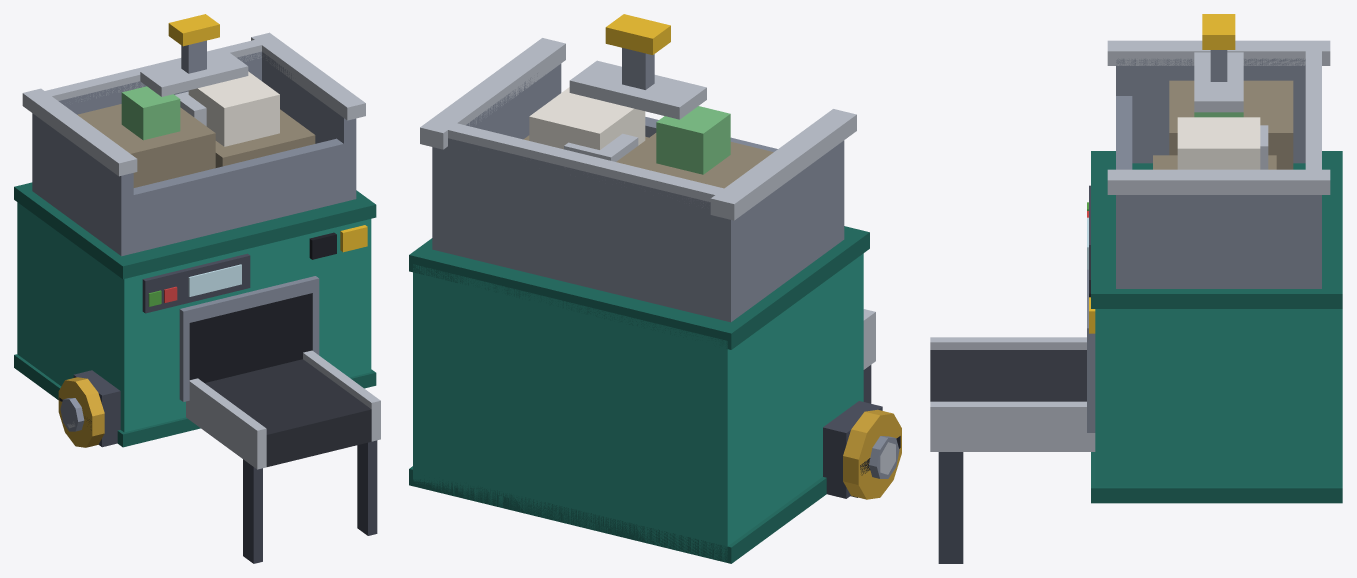
Rendered from intake-left.glb.
The picture shows the model from 3 angles, left to right: view 1: azimuth 30°, elevation 25°; view 2: azimuth 150°, elevation 25°; view 3: azimuth 270°, elevation 25°; orthographic projection. The views are drawn at different scales.
Visible parts, largest first — view 1: intake-left, slide-up, spin-x; view 2: intake-left, slide-up, spin-x; view 3: intake-left, slide-up.
Part boxes in pixels (left/top/right/bottom): intake-left: left=14, top=32, right=380, bottom=563; slide-up: left=140, top=14, right=248, bottom=96; spin-x: left=58, top=377, right=104, bottom=447; intake-left: left=409, top=38, right=895, bottom=563; slide-up: left=569, top=14, right=706, bottom=119; spin-x: left=843, top=409, right=901, bottom=499; intake-left: left=930, top=40, right=1342, bottom=563; slide-up: left=1194, top=14, right=1243, bottom=112.
Size of the model in its own units: 0.93 by 1.35 by 1.
3 materials, 3 textured.
